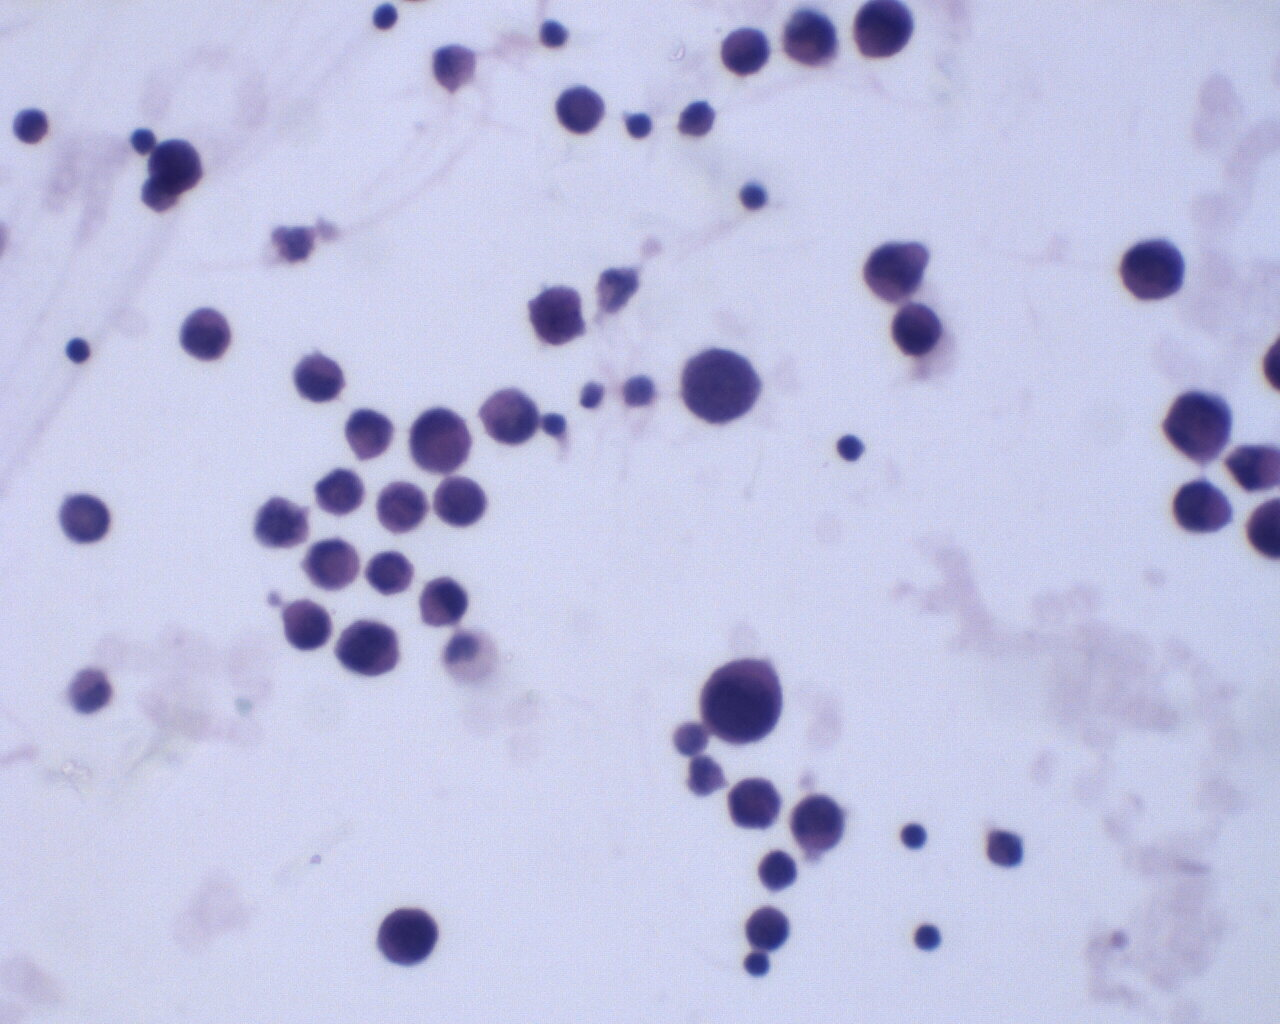ab: (697, 655, 790, 750), (676, 345, 766, 430), (1160, 385, 1238, 458), (856, 236, 934, 306), (468, 386, 543, 450), (1120, 235, 1188, 305), (373, 899, 439, 968), (336, 613, 404, 679), (723, 769, 791, 833), (779, 7, 844, 72), (786, 792, 848, 857), (176, 301, 237, 366), (1170, 478, 1235, 539), (850, 1, 916, 61), (145, 135, 208, 195), (371, 476, 430, 539), (298, 534, 360, 594), (290, 349, 351, 408), (889, 299, 948, 357), (427, 472, 487, 530), (557, 82, 609, 140), (57, 488, 112, 543), (315, 464, 366, 519)
lymph: (899, 817, 931, 858), (829, 432, 866, 464), (623, 101, 654, 139), (61, 336, 96, 369), (911, 920, 942, 955)
